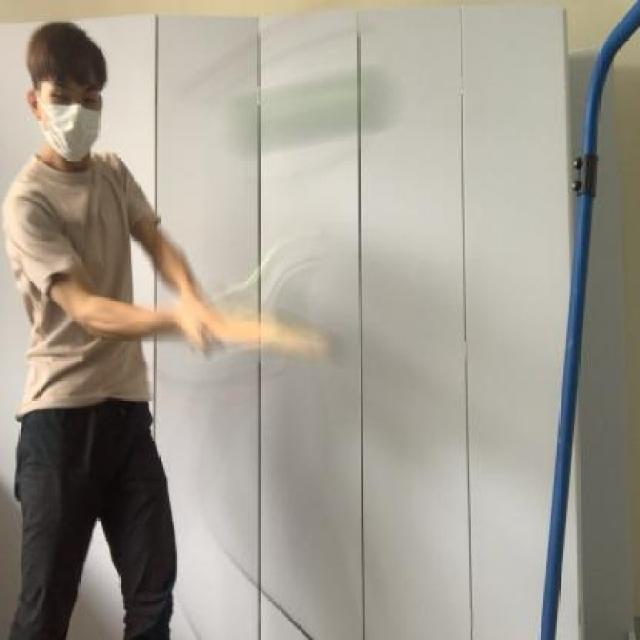baseball: (250, 67, 384, 147)
